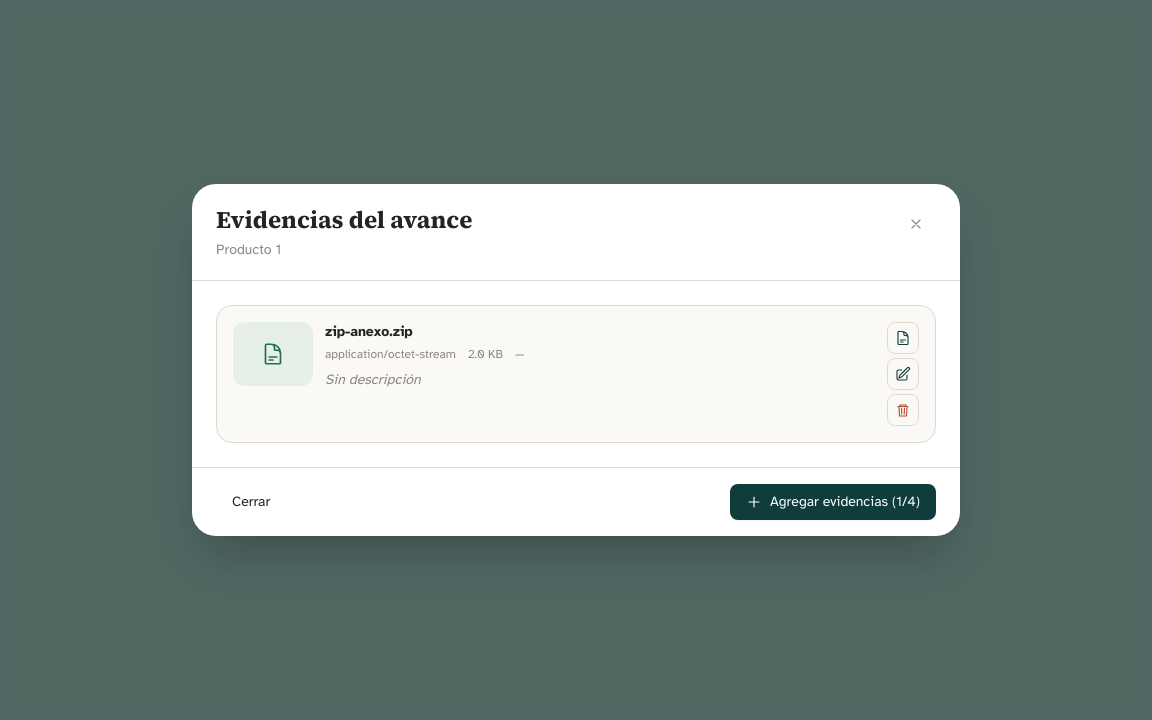
Scenario: descripción de evidencias › conserva la edición cuando el guardado falla
Click the button titled "Editar descripción" at (903, 374), box [887,358,919,390]
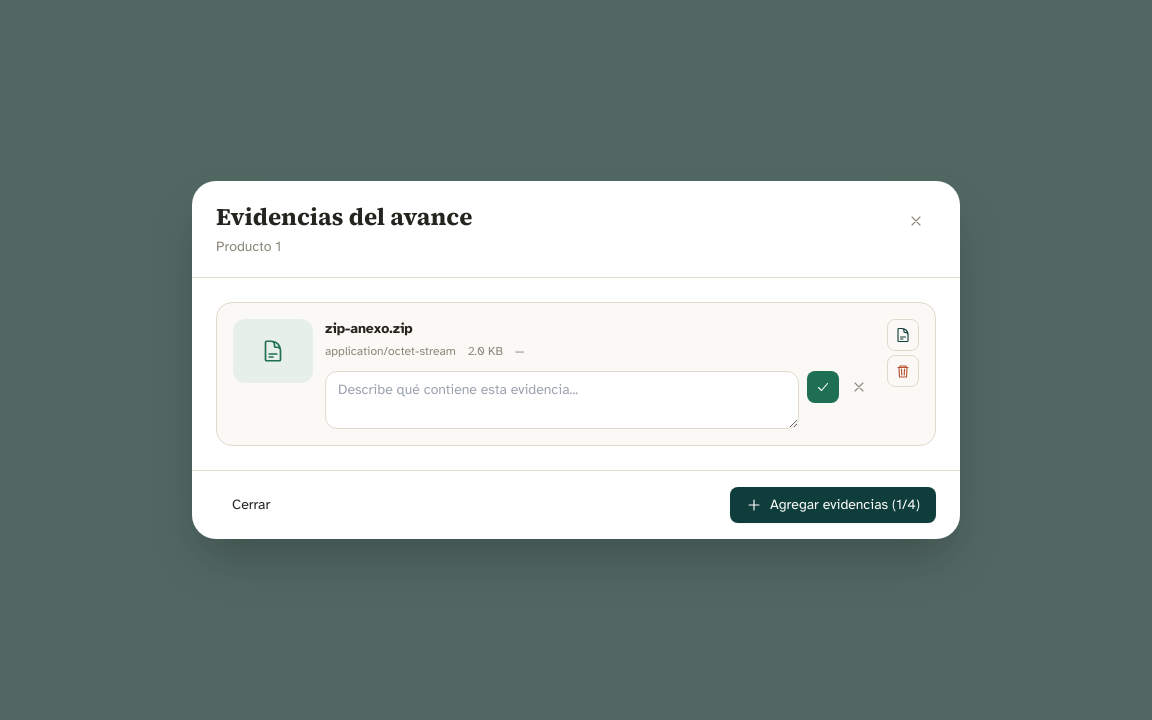
Type "borrador" into the text box at (562, 400), box [325,371,799,429]
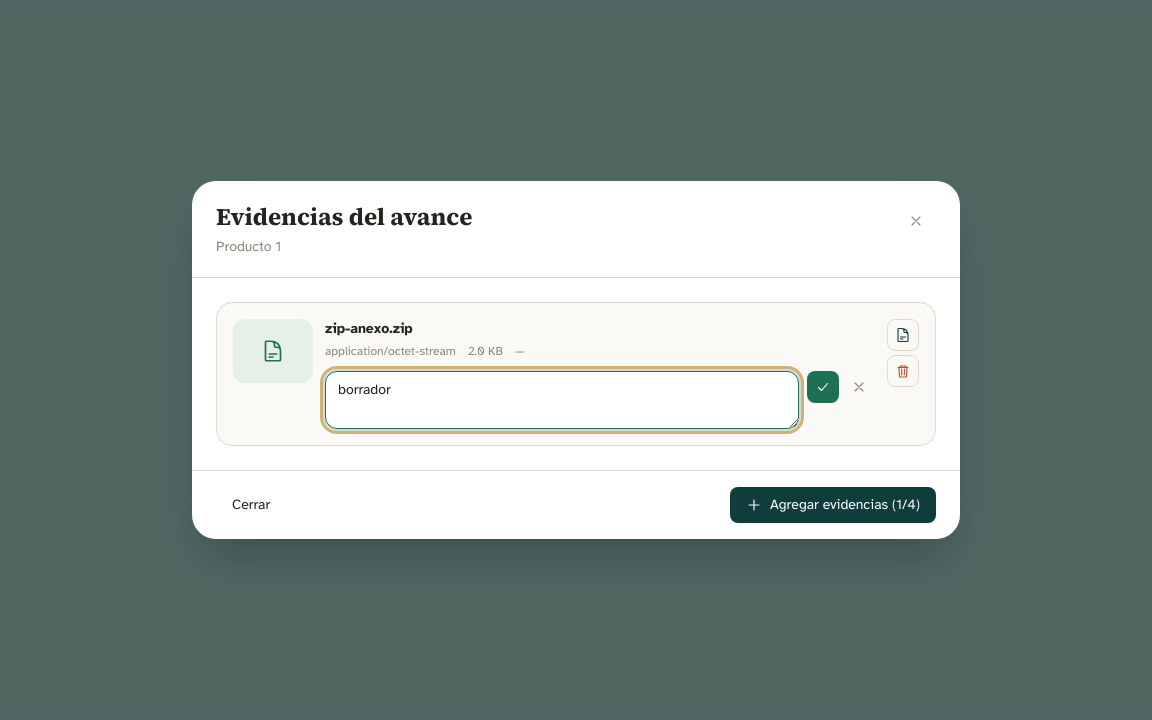
Click the button titled "Guardar" at (823, 387), box [807,371,839,403]
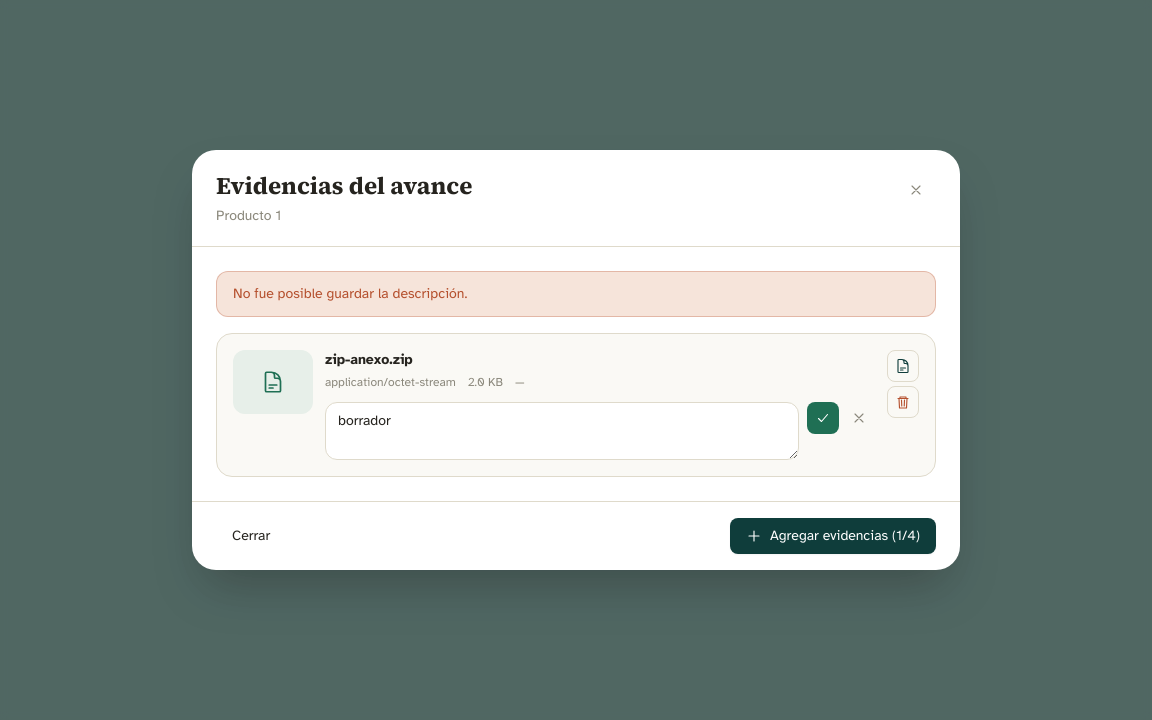
Expected: the message reads "No fue posible guardar la descripción.", [233,285,467,302]
